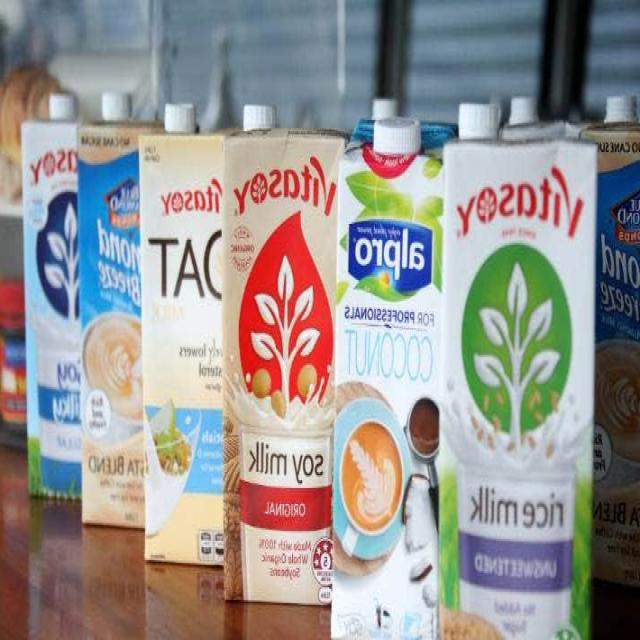cardboard: (436, 86, 638, 640), (333, 94, 449, 640), (222, 102, 339, 605), (22, 84, 142, 524), (142, 97, 222, 570)
